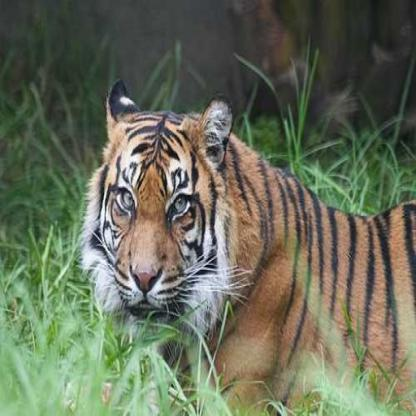Tiger: (69, 69, 415, 415)
